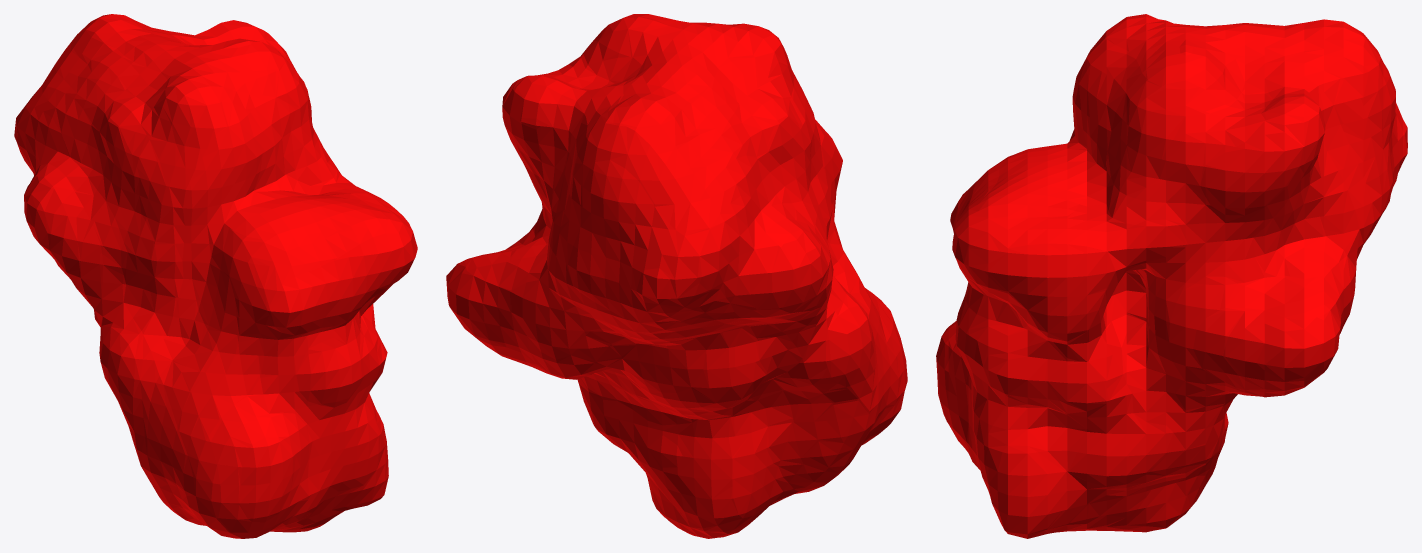
File: manA_coarse.dae
3 views of the same model, side by side, from view 1: azimuth 30°, elevation 25°; view 2: azimuth 150°, elevation 25°; view 3: azimuth 270°, elevation 25° (orthographic). The views are drawn at different scales.
Visible parts, largest first — view 1: manA; view 2: manA; view 3: manA.
Part boxes in pixels (x1,y1,x2,y2): manA: [14, 14, 417, 538]; manA: [446, 14, 907, 538]; manA: [936, 14, 1407, 538].
Size of the model in its own units: 48.42 by 69.24 by 59.62.
